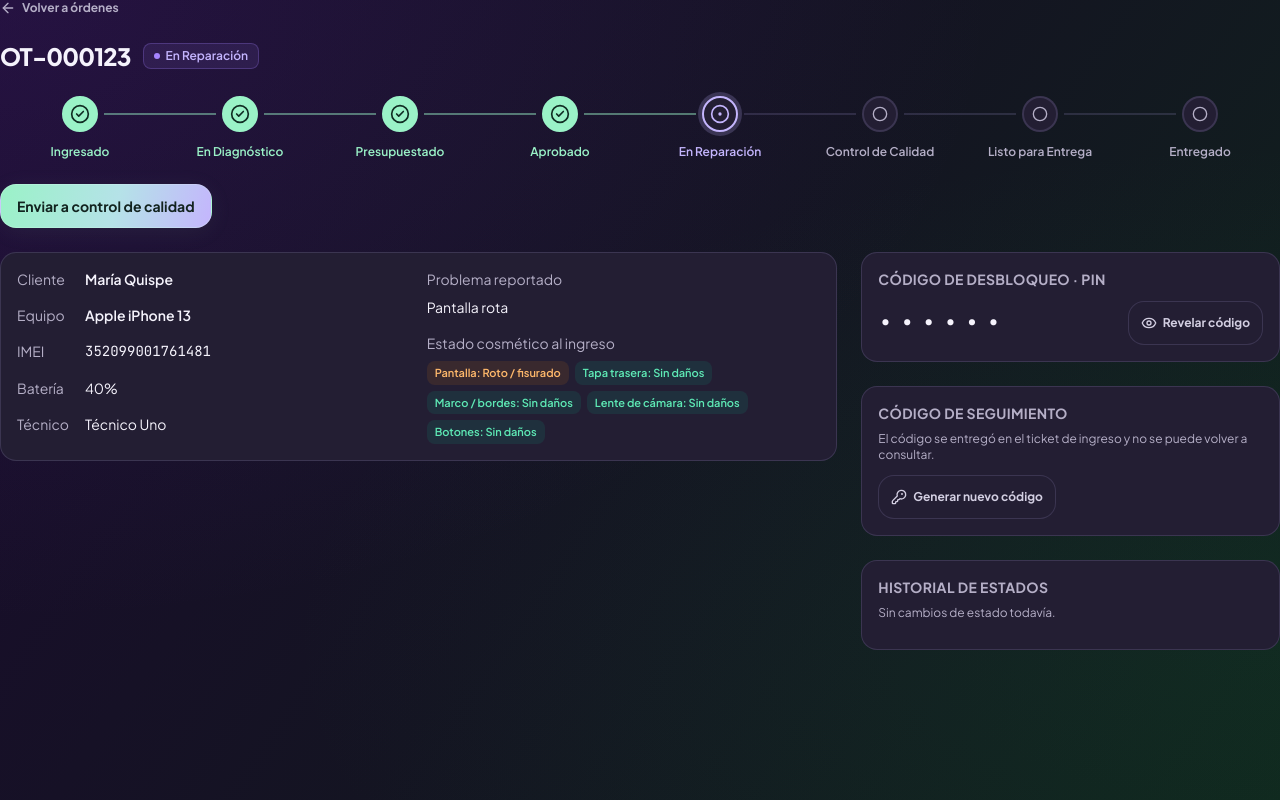
WorkOrderDetailPage › regenerates the tracking code after confirming (SUP-05) [004/RF-9.1]
Click the button "Generar nuevo código": (967, 497) [878,475,1056,519]
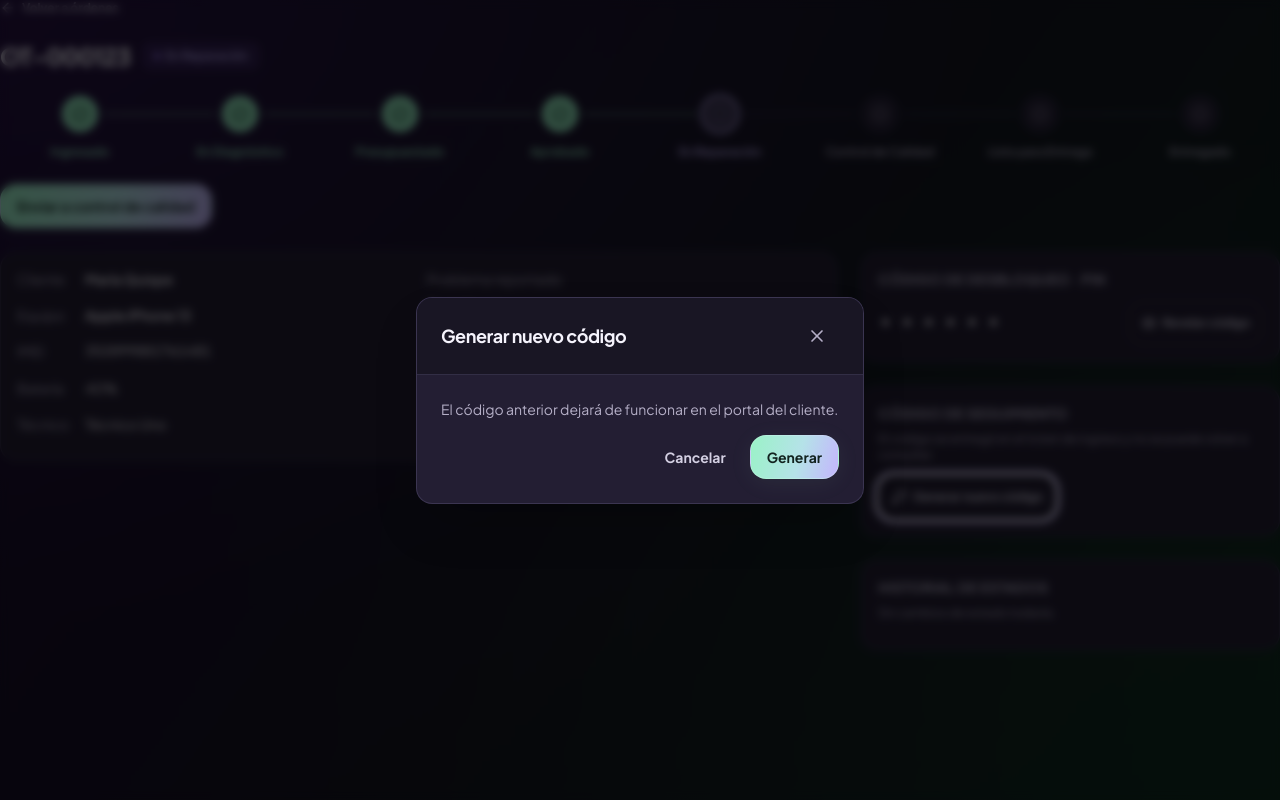
Click the button "Cancelar": (695, 456) [649,434,742,478]
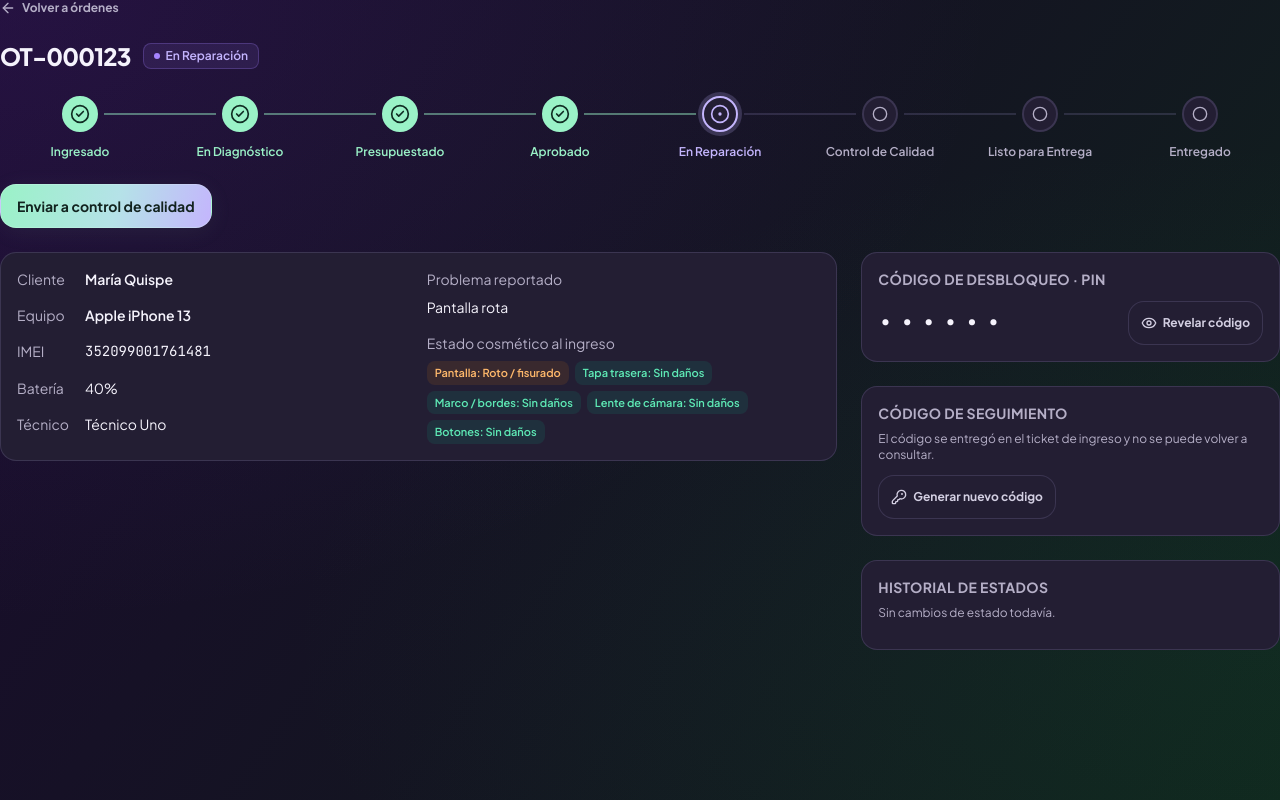
Check: the dialog is gone
Click the button "Generar nuevo código": (967, 497) [878,475,1056,519]
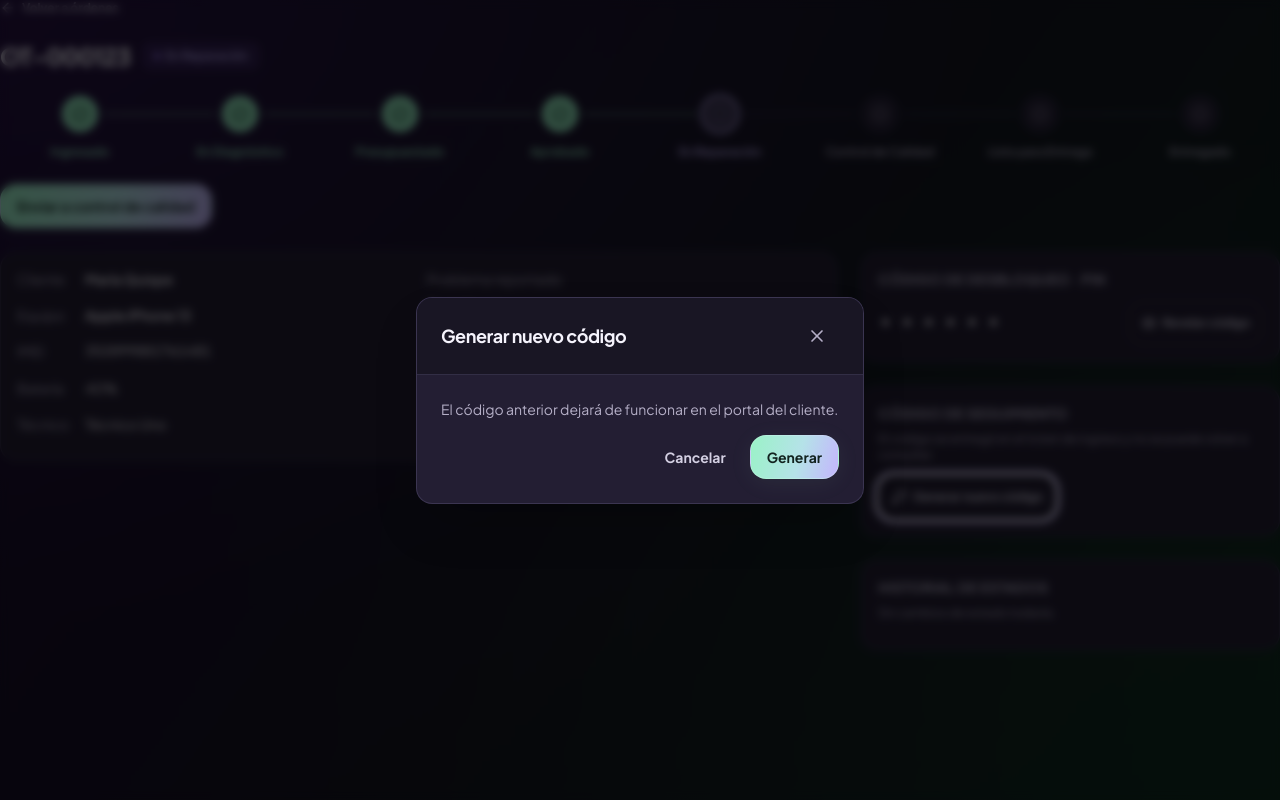
Click the button "Generar": (794, 456) [750,434,839,478]
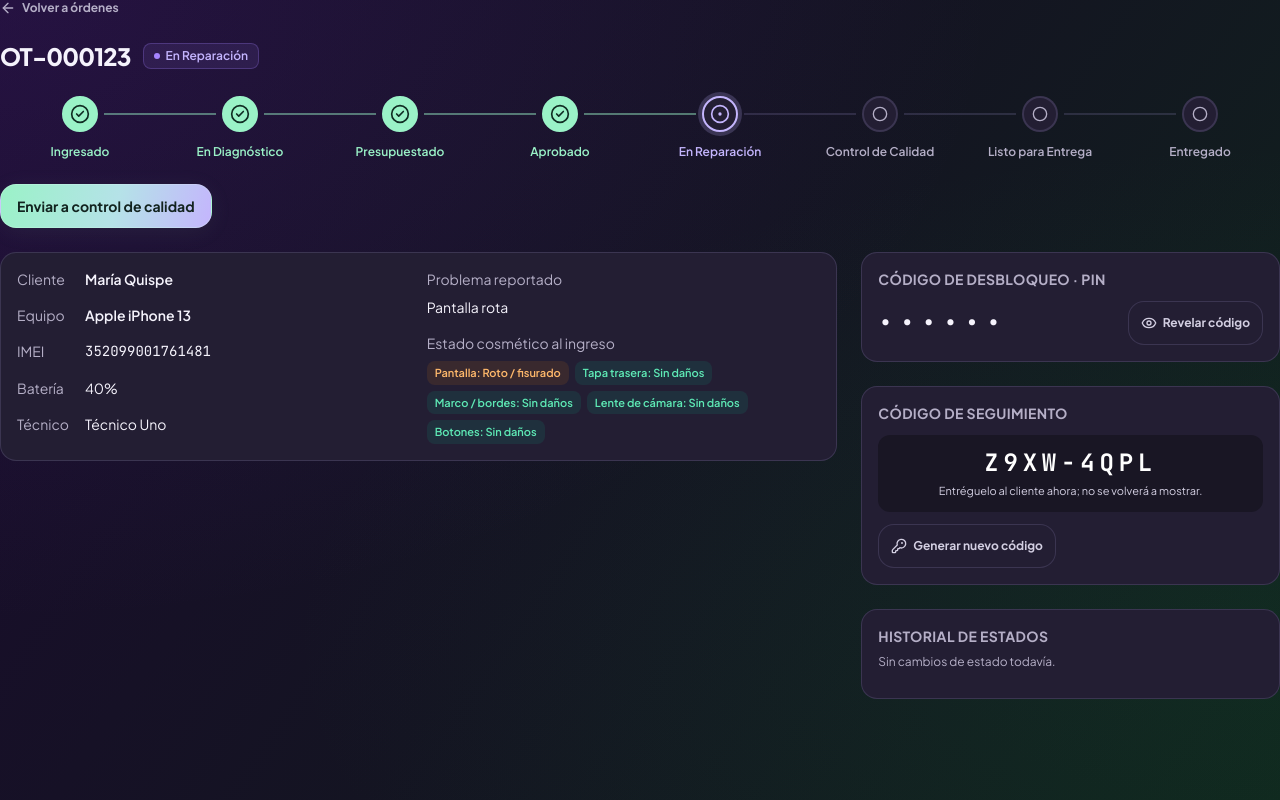
Check: the text "Z9XW-4QPL" is shown, box [984,447,1157,478]
Check: the dialog is gone
